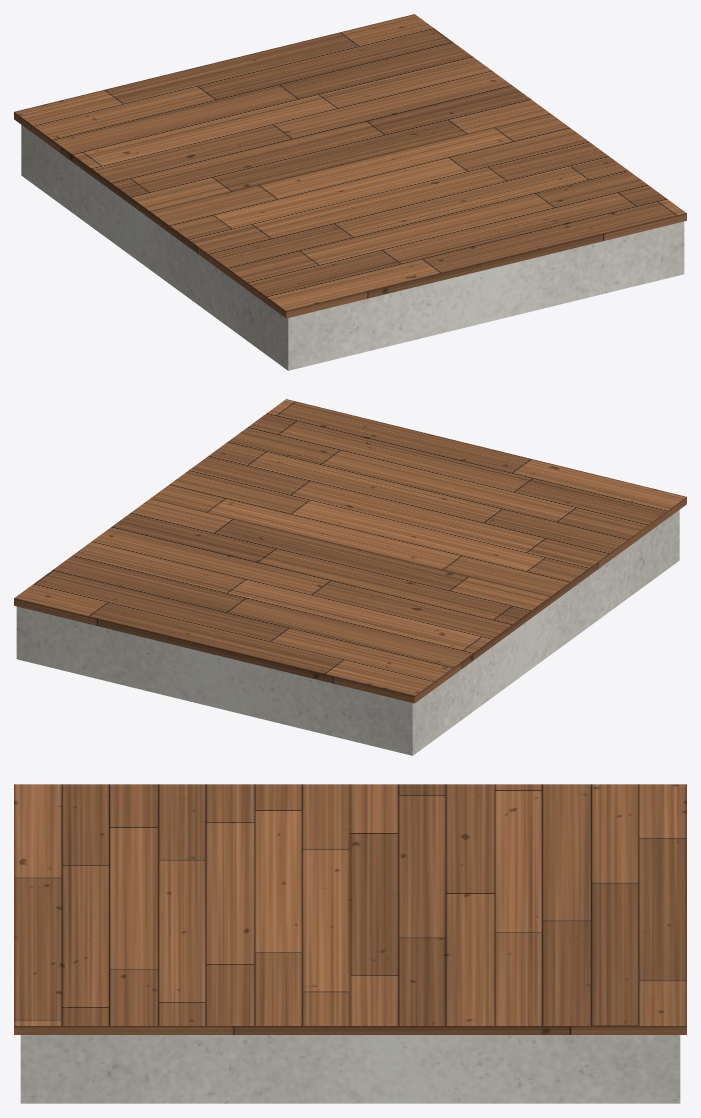
The model's file is floor_tile_e0100.glb.
3 renders of one model, top to bottom at view 1: azimuth 30°, elevation 25°; view 2: azimuth 150°, elevation 25°; view 3: azimuth 270°, elevation 25°, orthographic. The views are drawn at different scales.
Visible parts, largest first — view 1: floor_tile_e0100_floor, floor_tile_e0100_plaster; view 2: floor_tile_e0100_floor, floor_tile_e0100_plaster; view 3: floor_tile_e0100_floor, floor_tile_e0100_plaster.
Part boxes in pixels (x1,y1,x2,y2): floor_tile_e0100_floor: (14, 14, 686, 318); floor_tile_e0100_plaster: (21, 125, 684, 370); floor_tile_e0100_floor: (14, 399, 686, 703); floor_tile_e0100_plaster: (16, 510, 679, 755); floor_tile_e0100_floor: (14, 784, 686, 1034); floor_tile_e0100_plaster: (20, 1035, 680, 1103).
Bounding box in the file's own units: 1.7 × 0.255 × 2.
2 materials, 2 textured.
